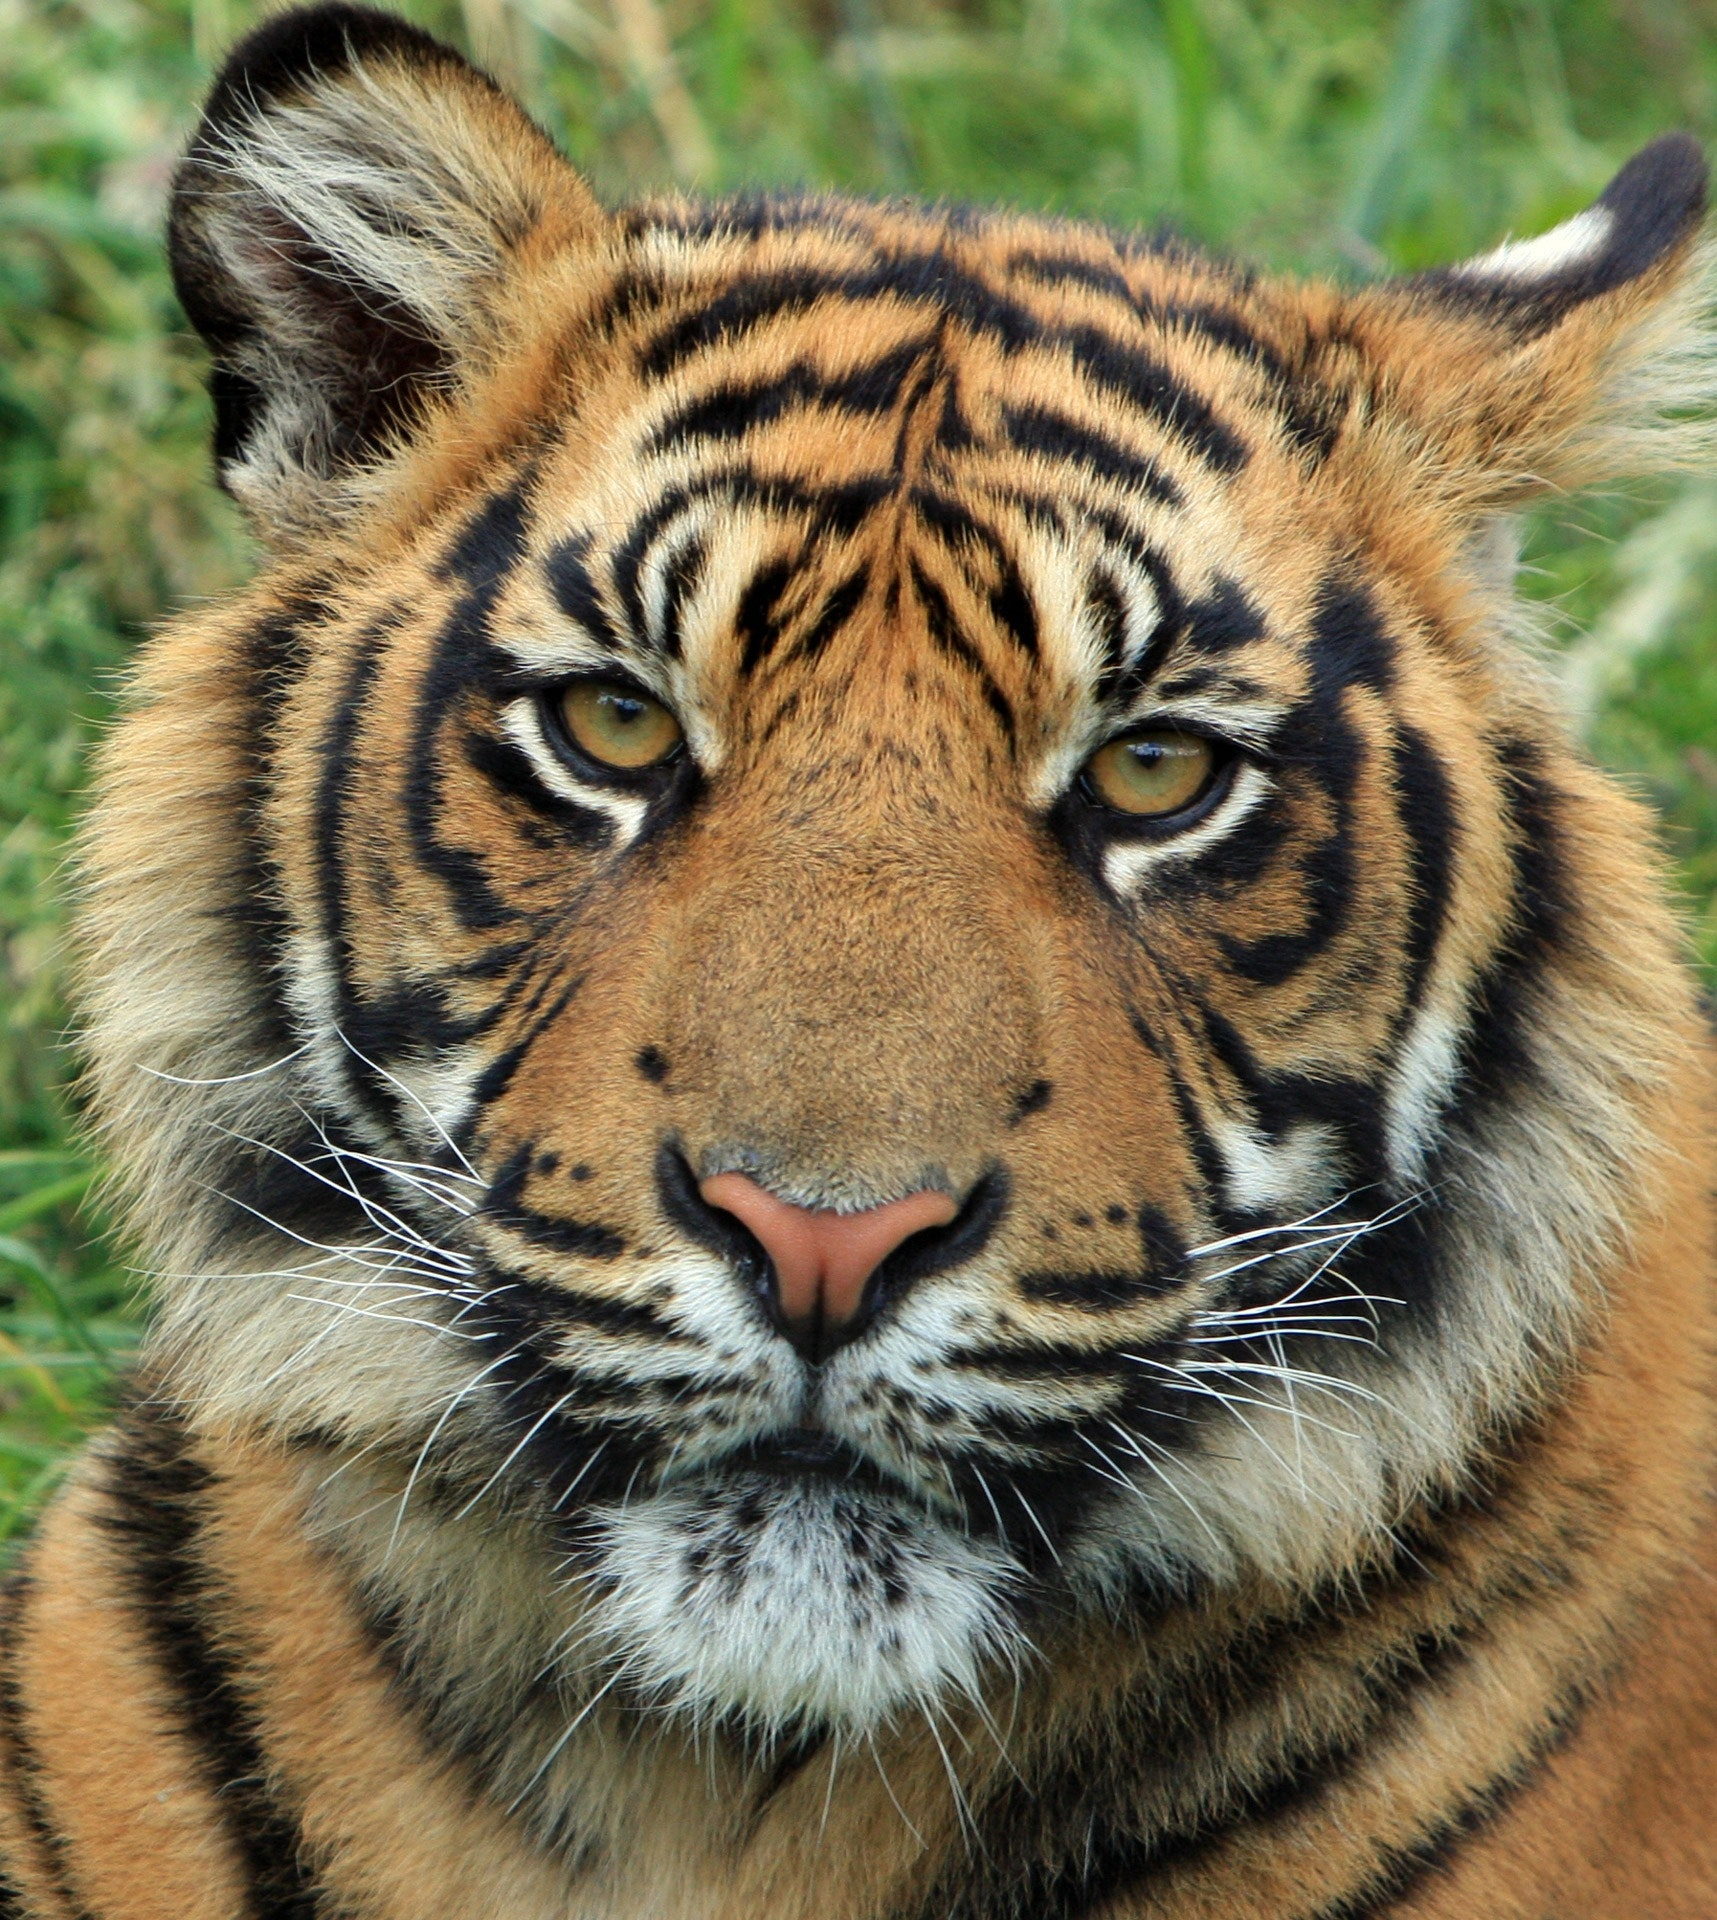tiger: (56, 30, 1717, 1867)
